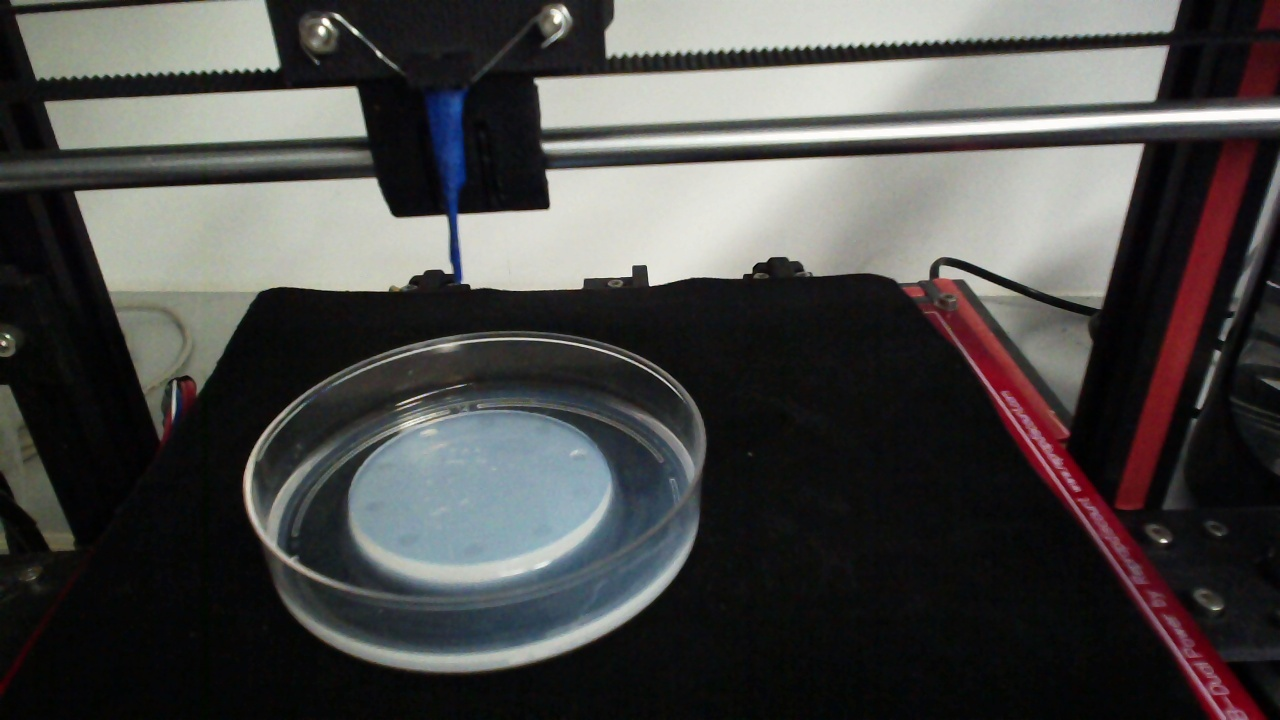groove: (461, 540, 485, 558), (396, 530, 421, 547), (570, 484, 592, 503), (531, 523, 554, 540), (568, 447, 590, 463), (364, 498, 385, 514), (375, 458, 395, 474), (476, 414, 496, 429), (417, 427, 438, 441), (533, 420, 551, 436)
needle: (424, 93, 463, 290)
